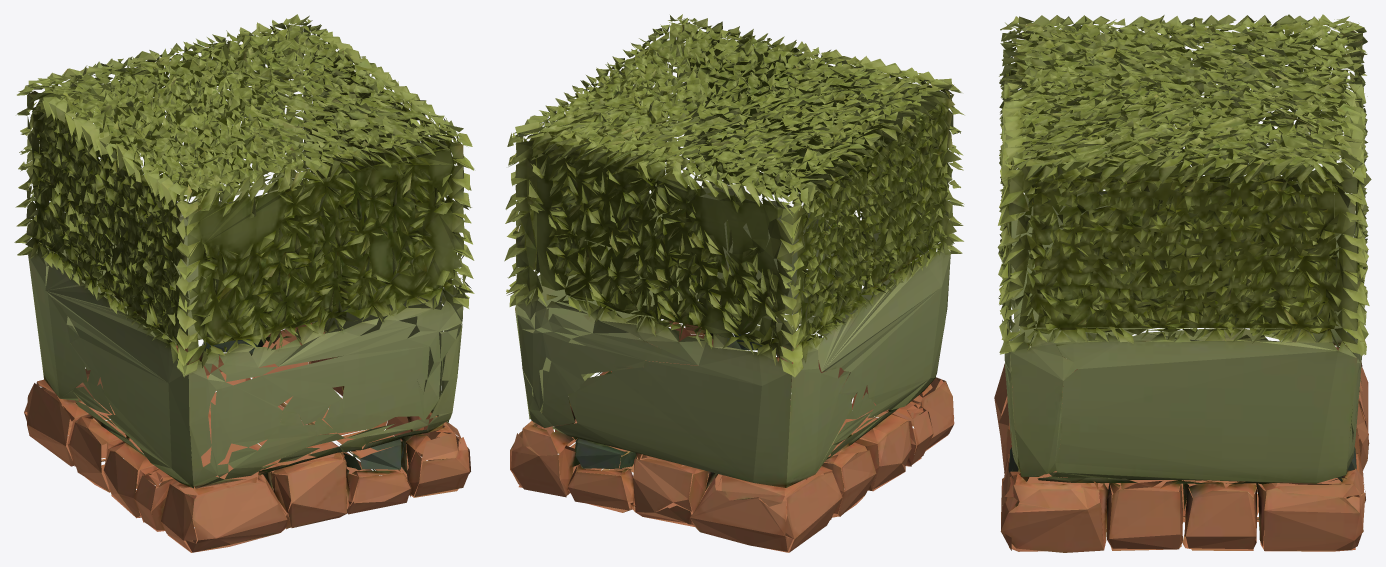
Rendered from hedge.glb.
The picture shows the model from 3 angles, left to right: view 1: azimuth 30°, elevation 25°; view 2: azimuth 150°, elevation 25°; view 3: azimuth 270°, elevation 25°; orthographic projection. The views are drawn at different scales.
Parts seen in each view (by area): view 1: material; view 2: material; view 3: material.
Part boxes in pixels (x1,y1,x2,y2): material: (14,14,474,552); material: (504,14,964,552); material: (994,14,1371,552).
Size of the model in its own units: 0.7692 by 0.9099 by 0.7868.
1 material, 1 textured.
